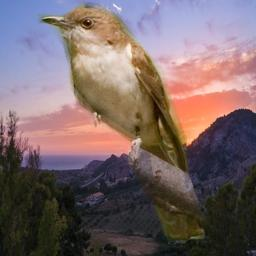Cuckoo: (37, 2, 205, 244)
